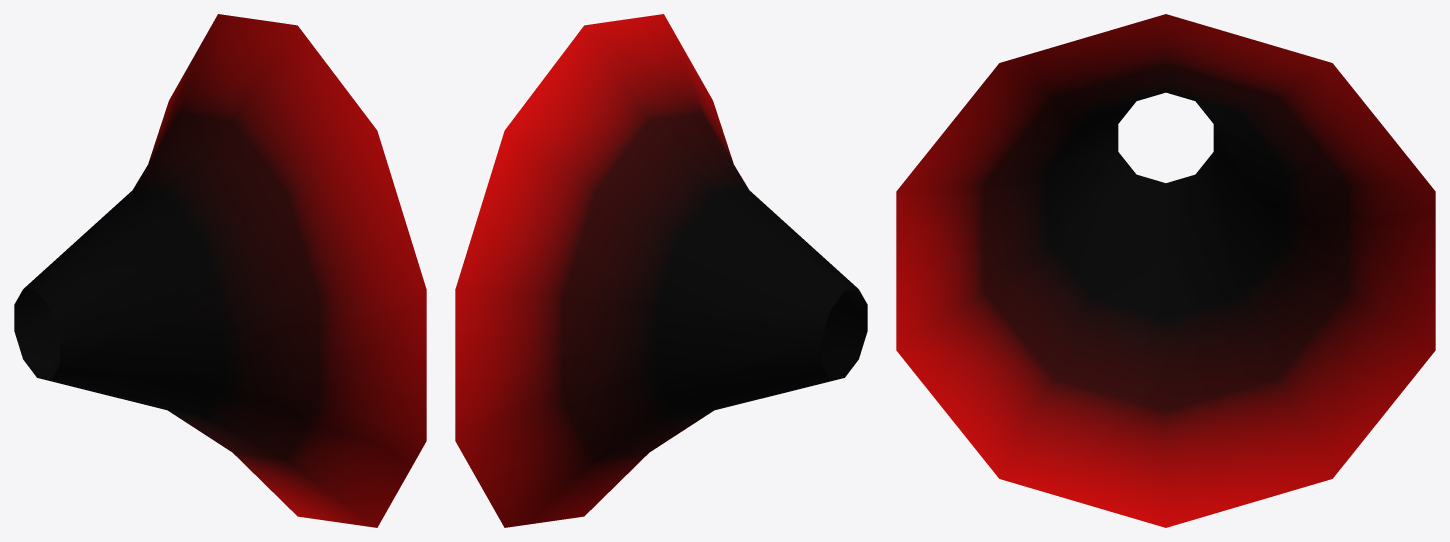
The model's file is General_SuckInEffect.fbx.
The picture shows the model from 3 angles, left to right: view 1: azimuth 30°, elevation 25°; view 2: azimuth 150°, elevation 25°; view 3: azimuth 270°, elevation 25°; orthographic projection. The views are drawn at different scales.
Visible parts, largest first — view 1: SuckInEffectCylinder; view 2: SuckInEffectCylinder; view 3: SuckInEffectCylinder.
Boxes of the visible parts, x1,y1,x2,y2 form: SuckInEffectCylinder: [14, 14, 426, 527]; SuckInEffectCylinder: [455, 14, 867, 527]; SuckInEffectCylinder: [896, 14, 1435, 527].
Size of the model in its own units: 0.1687 by 0.2889 by 0.3038.
